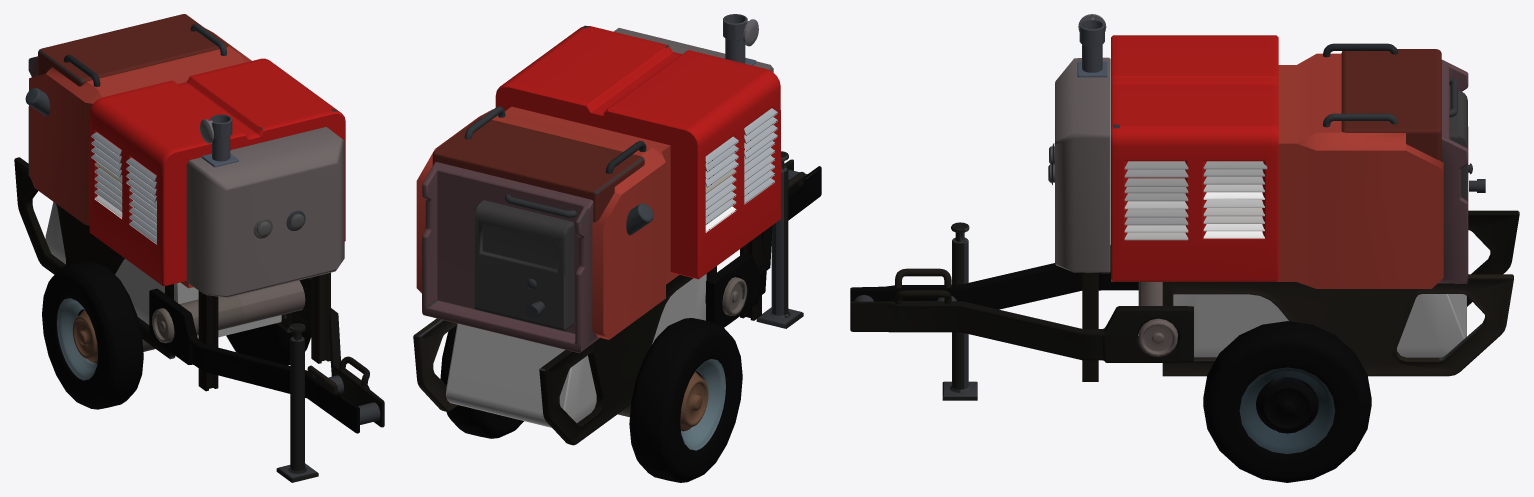
The model's file is Generator.fbx.
The picture shows the model from 3 angles, left to right: view 1: azimuth 30°, elevation 25°; view 2: azimuth 150°, elevation 25°; view 3: azimuth 270°, elevation 25°; orthographic projection. The views are drawn at different scales.
Parts seen in each view (by area): view 1: Generator.027, Generator, Generator.005, Generator.009, Generator.023, Generator.014, Generator.011, Generator.012, Generator.020, Generator.073, Generator.077, Generator.074 (+7 smaller); view 2: Generator.027, Generator.026, Generator.005, Generator.009, Generator.012, Generator.021, Generator.023, Generator.011, Generator.014, Generator.020, Generator.076, Generator.077 (+8 smaller); view 3: Generator.027, Generator.005, Generator.077, Generator.076, Generator.073, Generator, Generator.023, Generator.012, Generator.014, Generator.026, Generator.079, Generator.080 (+6 smaller).
Part boxes in pixels (x1,y1,x2,y2): Generator.027: (89,58,345,286); Generator: (186,127,344,297); Generator.005: (29,29,251,288); Generator.009: (42,261,143,409); Generator.023: (38,14,227,86); Generator.014: (149,288,359,433); Generator.011: (14,157,175,359); Generator.012: (45,202,281,338); Generator.020: (276,323,318,482); Generator.073: (292,277,384,427); Generator.077: (226,313,311,365); Generator.074: (238,280,305,324); Generator.027: (495,25,780,279); Generator.026: (422,162,599,353); Generator.005: (416,106,679,339); Generator.009: (629,318,742,482); Generator.012: (446,274,706,427); Generator.021: (474,200,574,331); Generator.023: (432,117,644,222); Generator.011: (539,266,716,445); Generator.014: (706,166,821,327); Generator.020: (756,151,803,328); Generator.076: (413,318,457,411); Generator.077: (440,325,523,438); Generator.027: (1111,35,1278,281); Generator.005: (1111,53,1443,288); Generator.077: (1203,321,1371,482); Generator.076: (1162,274,1513,376); Generator.073: (850,301,1193,362); Generator: (1055,57,1110,273); Generator.023: (1341,49,1441,161); Generator.012: (1173,294,1466,357); Generator.014: (850,245,1138,309); Generator.026: (1438,59,1468,283); Generator.079: (1239,367,1335,453); Generator.080: (1256,377,1318,433).
Size of the model in its own units: 54.5 by 86.32 by 136.
